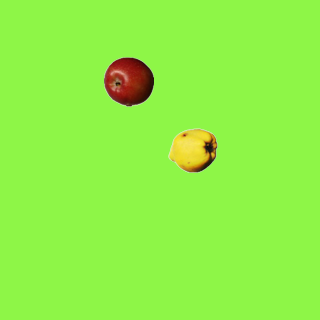Apple Braeburn: (103, 56, 153, 106)
Quince: (167, 125, 217, 175)
